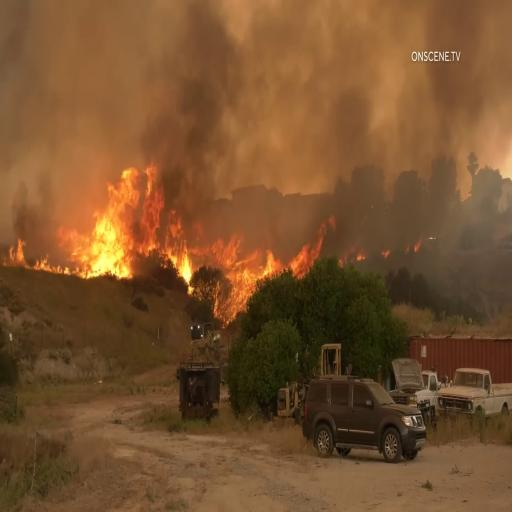fire: (84, 162, 159, 276), (166, 229, 192, 292)
smoke: (162, 25, 231, 214)
